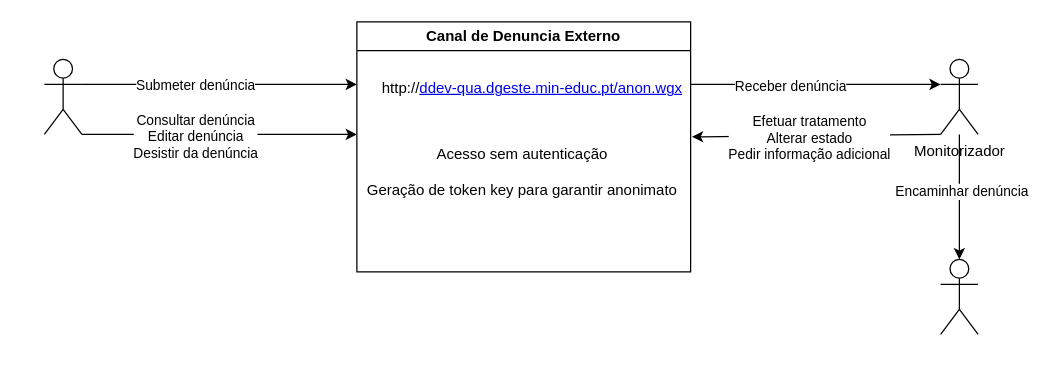
Some shapes in this 1056 by 383 pixel diagram are drawn without their labels. The box of each missing label's shape, as (x1, y1, x2, y2) in pixels:
Denunciante: (43, 58, 82, 134)
Tratador/Monitorizador: (939, 258, 978, 334)
